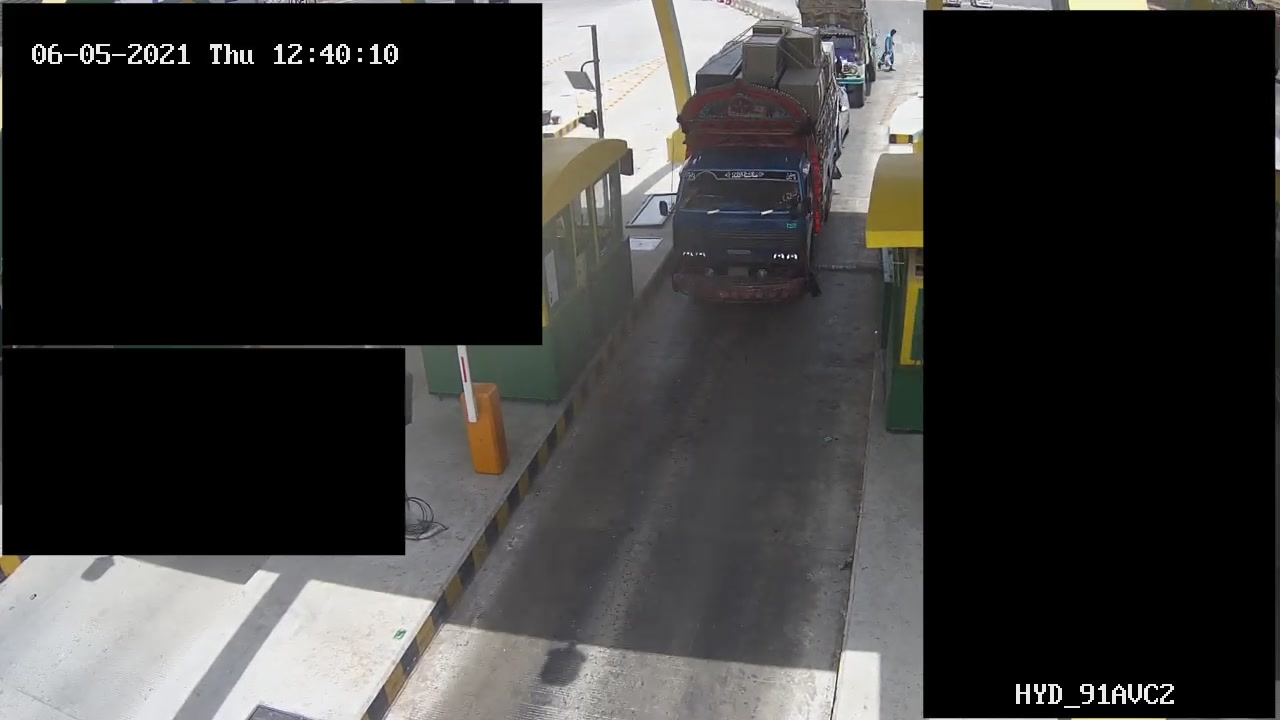F3: (662, 20, 845, 307)
